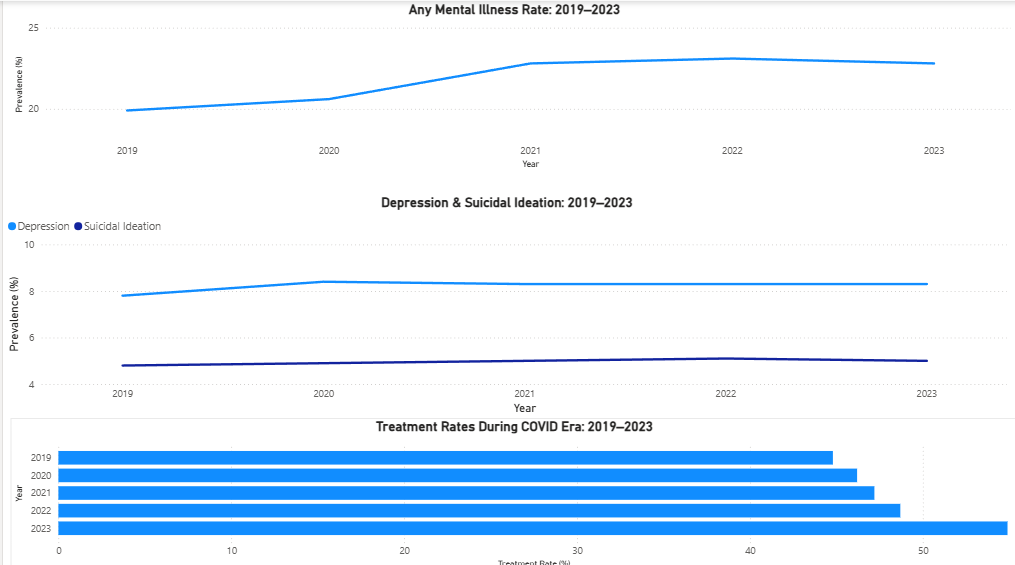

The dashboard page shown, as its layout file describes it:
{"tool":"powerbi","page":{"name":"COVID Impact","canvas":[1280,720],"ordinal":4},"visuals":[{"type":"lineChart","title":"Depression & Suicidal Ideation: 2019–2023","fields":{"Category":["covid_impact.year"],"Y":["Avg(covid_impact.depression_pct)","Avg(covid_impact.suicidal_ideation_pct)"]},"box":[0,243.8,1269.9,281.6],"z":0},{"type":"clusteredBarChart","title":"Treatment Rates During COVID Era: 2019–2023","fields":{"Category":["covid_impact.year"],"Y":["Sum(covid_impact.received_treatment_pct)"]},"box":[9.4,525.4,1269.9,194.6],"z":1},{"type":"lineChart","title":"Any Mental Illness Rate: 2019–2023","fields":{"Y":["Sum(covid_impact.ami_pct)"],"Category":["covid_impact.year"]},"box":[9.4,0,1269.9,215.4],"z":2}]}

Visuals, with their boxes in screenshot pixels (x1, y1, x2, y2), scaled from the page's 1280x720 canvas onto the 1015x565 screenshot:
"Depression & Suicidal Ideation: 2019–2023" lineChart: x1=0, y1=191, x2=1007, y2=412
"Treatment Rates During COVID Era: 2019–2023" clusteredBarChart: x1=7, y1=412, x2=1014, y2=564
"Any Mental Illness Rate: 2019–2023" lineChart: x1=7, y1=0, x2=1014, y2=169
